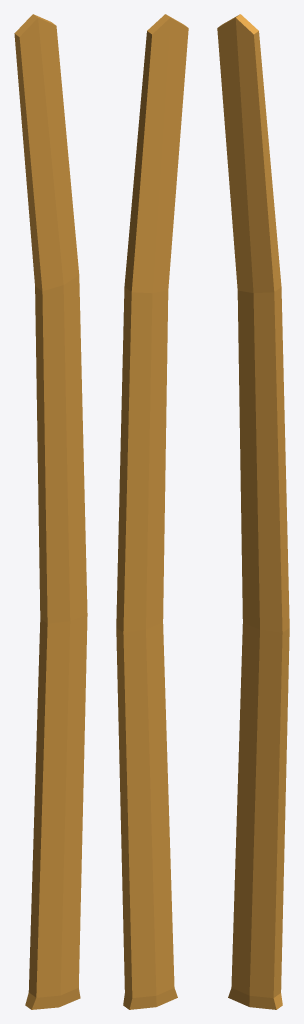
File: zulu-sword-cavalry-scabbard.glb
3 renders of one model, left to right at view 1: azimuth 30°, elevation 25°; view 2: azimuth 210°, elevation 25°; view 3: azimuth 330°, elevation 25°, orthographic.
Visible parts, largest first — view 1: sword-cavalry-scabbard; view 2: sword-cavalry-scabbard; view 3: sword-cavalry-scabbard.
Part boxes in pixels (bbox=[...]): sword-cavalry-scabbard: bbox=[14, 14, 87, 1009]; sword-cavalry-scabbard: bbox=[116, 14, 188, 1009]; sword-cavalry-scabbard: bbox=[217, 14, 289, 1009].
Bounding box in the file's own units: 0.0674 × 0.954 × 0.0235.
